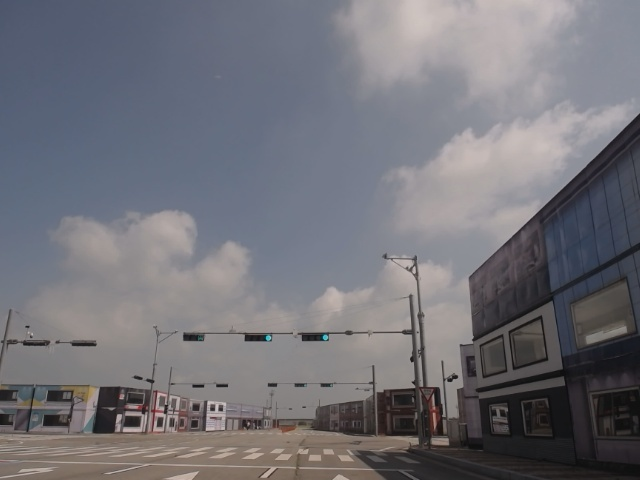straight_green_4: (302, 333, 331, 344), (243, 334, 275, 343)
